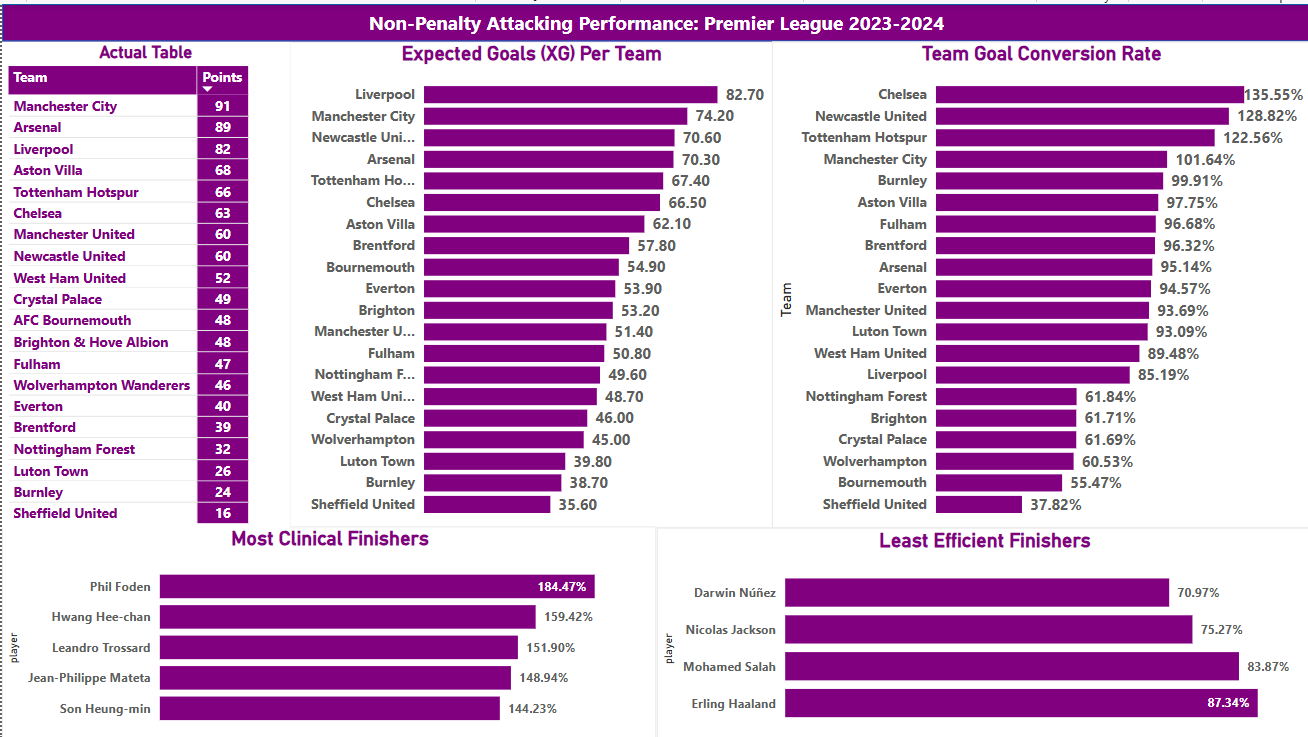

The page's visual inventory and layout, read from the dashboard file:
{"tool":"powerbi","page":{"name":"Page 1","canvas":[1280,720],"ordinal":0},"visuals":[{"type":"barChart","title":"Expected Goals (XG) Per Team","fields":{"Category":["sheet1.Team"],"Y":["sheet1.NP XG"]},"box":[281.2,36.2,472.5,476.2],"z":0},{"type":"barChart","title":"Most Clinical Finishers","fields":{"Category":["sheet1.player"],"Y":["sheet1.NP Conversion%"]},"box":[0,511,640.2,208.5],"z":2000},{"type":"barChart","title":"Least Efficient Finishers","fields":{"Category":["sheet1.player"],"Y":["sheet1.NP Conversion%"]},"box":[640.2,512.2,640.2,207.3],"z":3000},{"type":"tableEx","title":"Actual Table","fields":{"Values":["Actual.Team","Actual.Points"]},"box":[0,36.2,281.2,476.2],"z":4000},{"type":"shape","box":[0,0,1280.5,36.6],"z":4001},{"type":"barChart","title":"Team Goal Conversion Rate","fields":{"Y":["sheet1.NP Conversion%"],"Category":["sheet1.Team"]},"box":[753.8,36.2,526.2,476.2],"z":4002}]}

Visuals, with their boxes in screenshot pixels (x1, y1, x2, y2), scaled from the page's 1280x720 canvas onto the 1308x737 screenshot:
"Expected Goals (XG) Per Team" barChart: 287,37,770,524
"Most Clinical Finishers" barChart: 0,523,654,736
"Least Efficient Finishers" barChart: 654,524,1307,736
"Actual Table" tableEx: 0,37,287,524
shape: 0,0,1307,37
"Team Goal Conversion Rate" barChart: 770,37,1307,524
